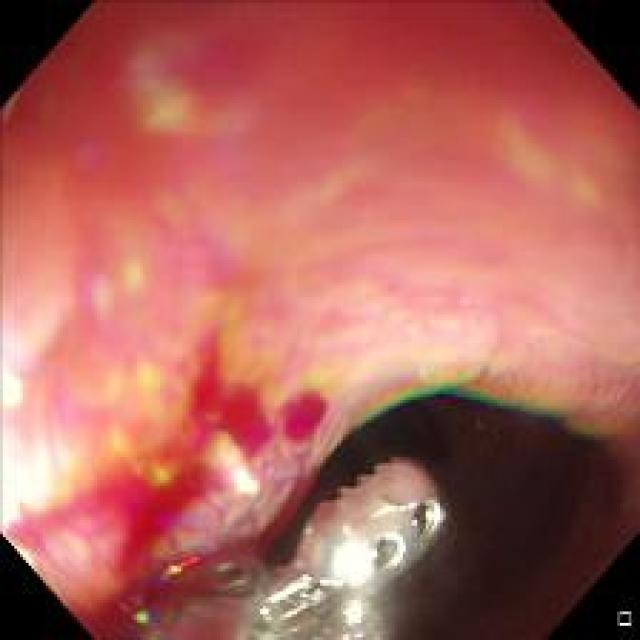blood: (40, 345, 301, 575)
blur: (2, 1, 635, 636)
color misalignment: (442, 380, 598, 438), (349, 395, 386, 428), (124, 598, 159, 632), (152, 554, 201, 575), (388, 388, 441, 404)
contrast: (272, 385, 584, 584)
instrument: (172, 452, 442, 634)
specularity: (329, 529, 374, 592), (340, 595, 368, 626)
